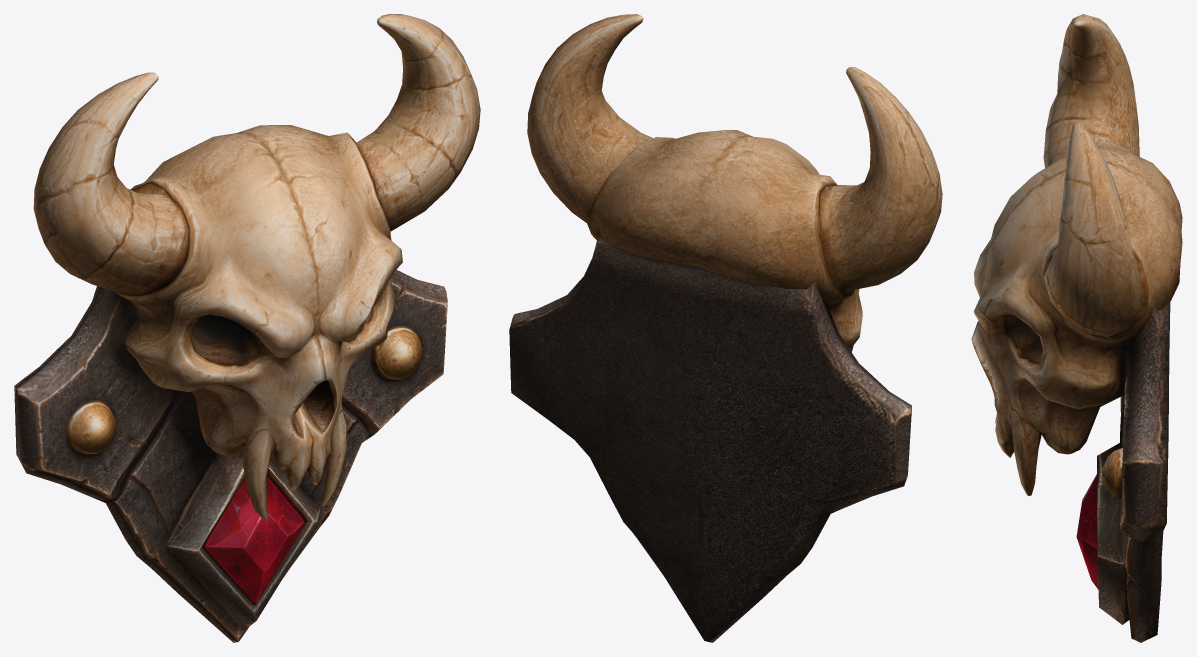
The model's file is horned_skull_emblem_3d_model.fbx.
3 renders of one model, left to right at view 1: azimuth 30°, elevation 25°; view 2: azimuth 150°, elevation 25°; view 3: azimuth 270°, elevation 25°, orthographic. The views are drawn at different scales.
Visible parts, largest first — view 1: tripo_530880fc_4842_485c_83cf_b84dd38873f8; view 2: tripo_530880fc_4842_485c_83cf_b84dd38873f8; view 3: tripo_530880fc_4842_485c_83cf_b84dd38873f8.
Part boxes in pixels (x1,y1,x2,y2): tripo_530880fc_4842_485c_83cf_b84dd38873f8: (14,14,480,642); tripo_530880fc_4842_485c_83cf_b84dd38873f8: (509,14,942,642); tripo_530880fc_4842_485c_83cf_b84dd38873f8: (971,14,1182,642).
Bounding box in the file's own units: 0.7329 × 0.9995 × 0.3345.
